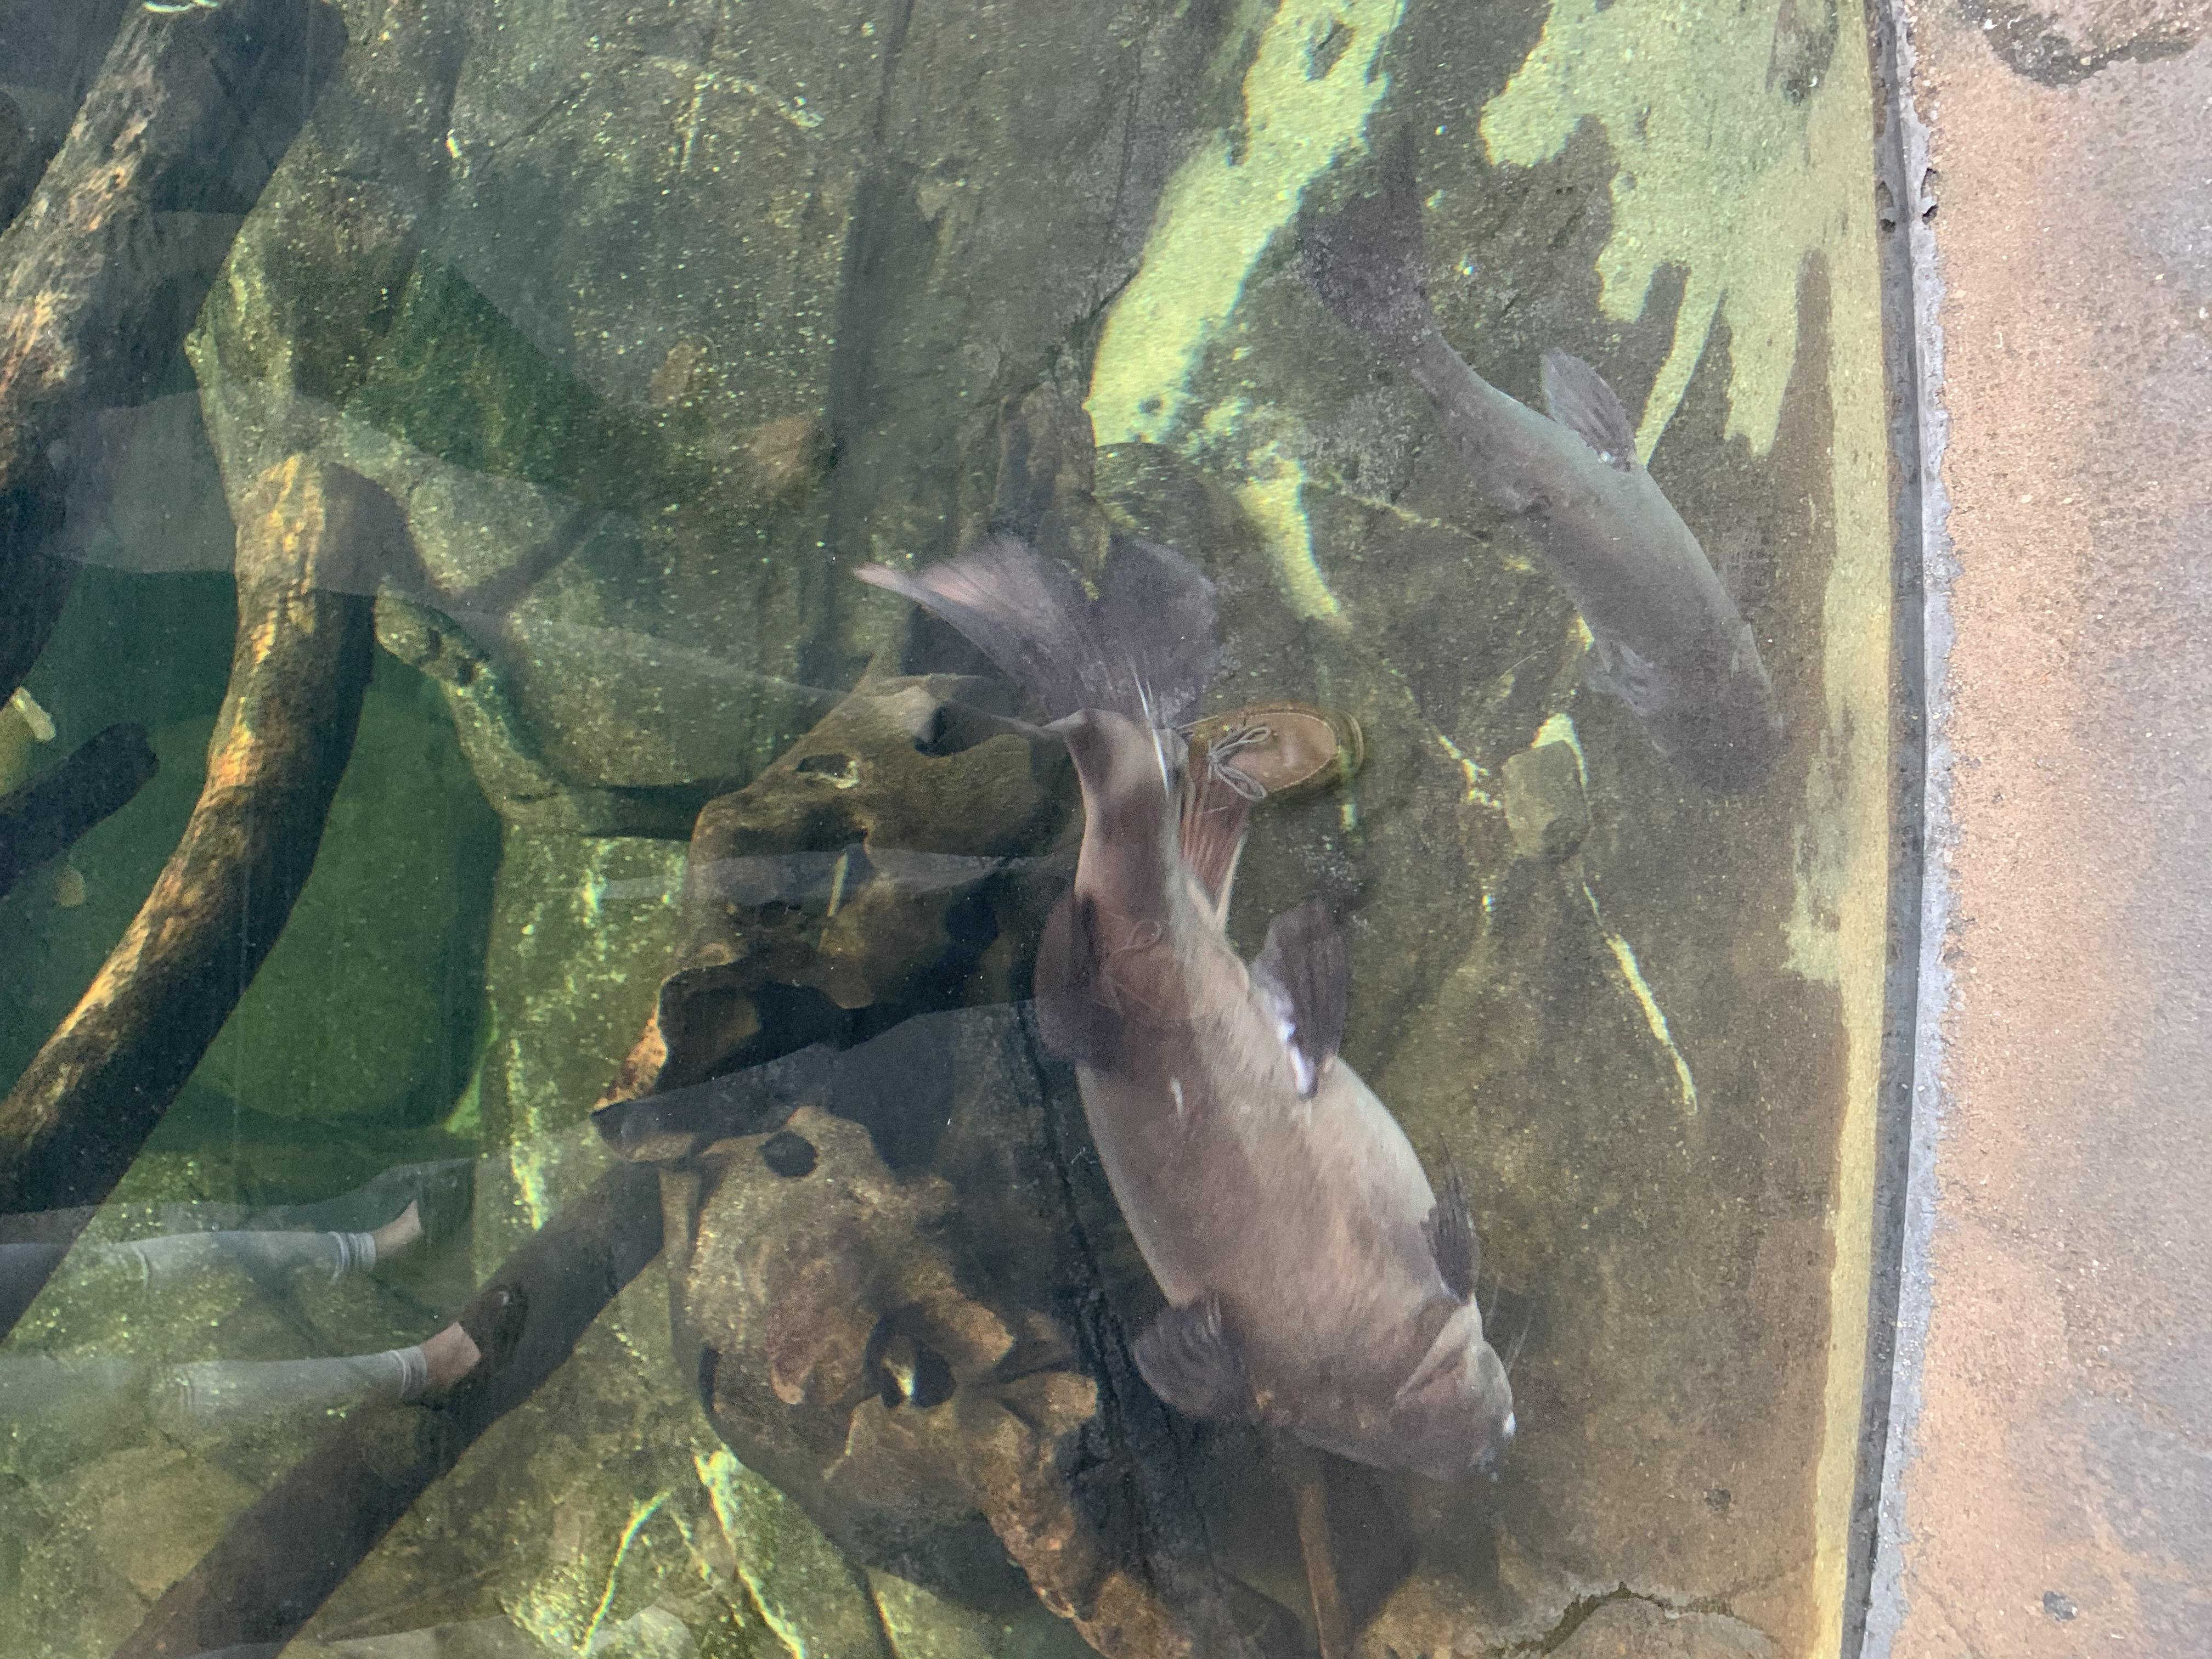fish: (850, 518, 1526, 1502), (1301, 171, 1792, 816)
